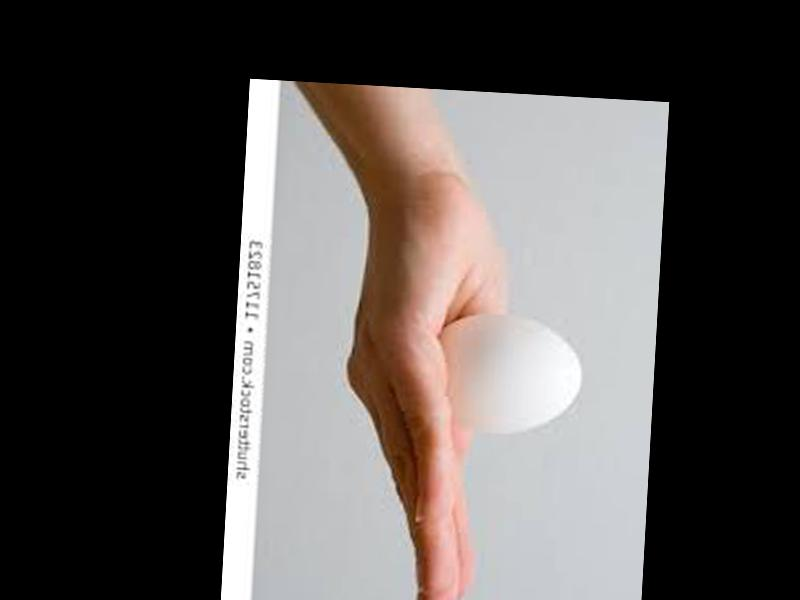Eggs: (433, 317, 583, 437)
